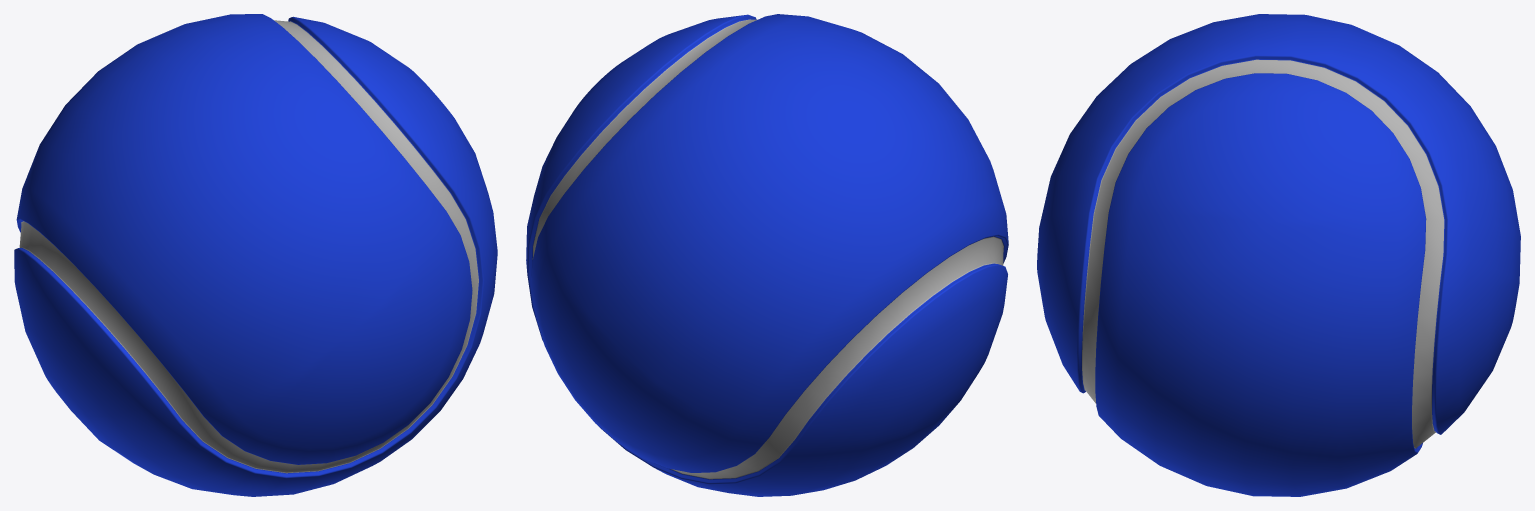
Rendered from ball.glb.
3 renders of one model, left to right at view 1: azimuth 30°, elevation 25°; view 2: azimuth 150°, elevation 25°; view 3: azimuth 270°, elevation 25°, orthographic.
Visible parts, largest first — view 1: Tennis Ball; view 2: Tennis Ball; view 3: Tennis Ball.
Boxes of the visible parts, bbox=[...] form: Tennis Ball: bbox=[14, 14, 497, 496]; Tennis Ball: bbox=[526, 14, 1008, 496]; Tennis Ball: bbox=[1037, 14, 1520, 496].
Bounding box in the file's own units: 1.15 × 1.15 × 1.15.
